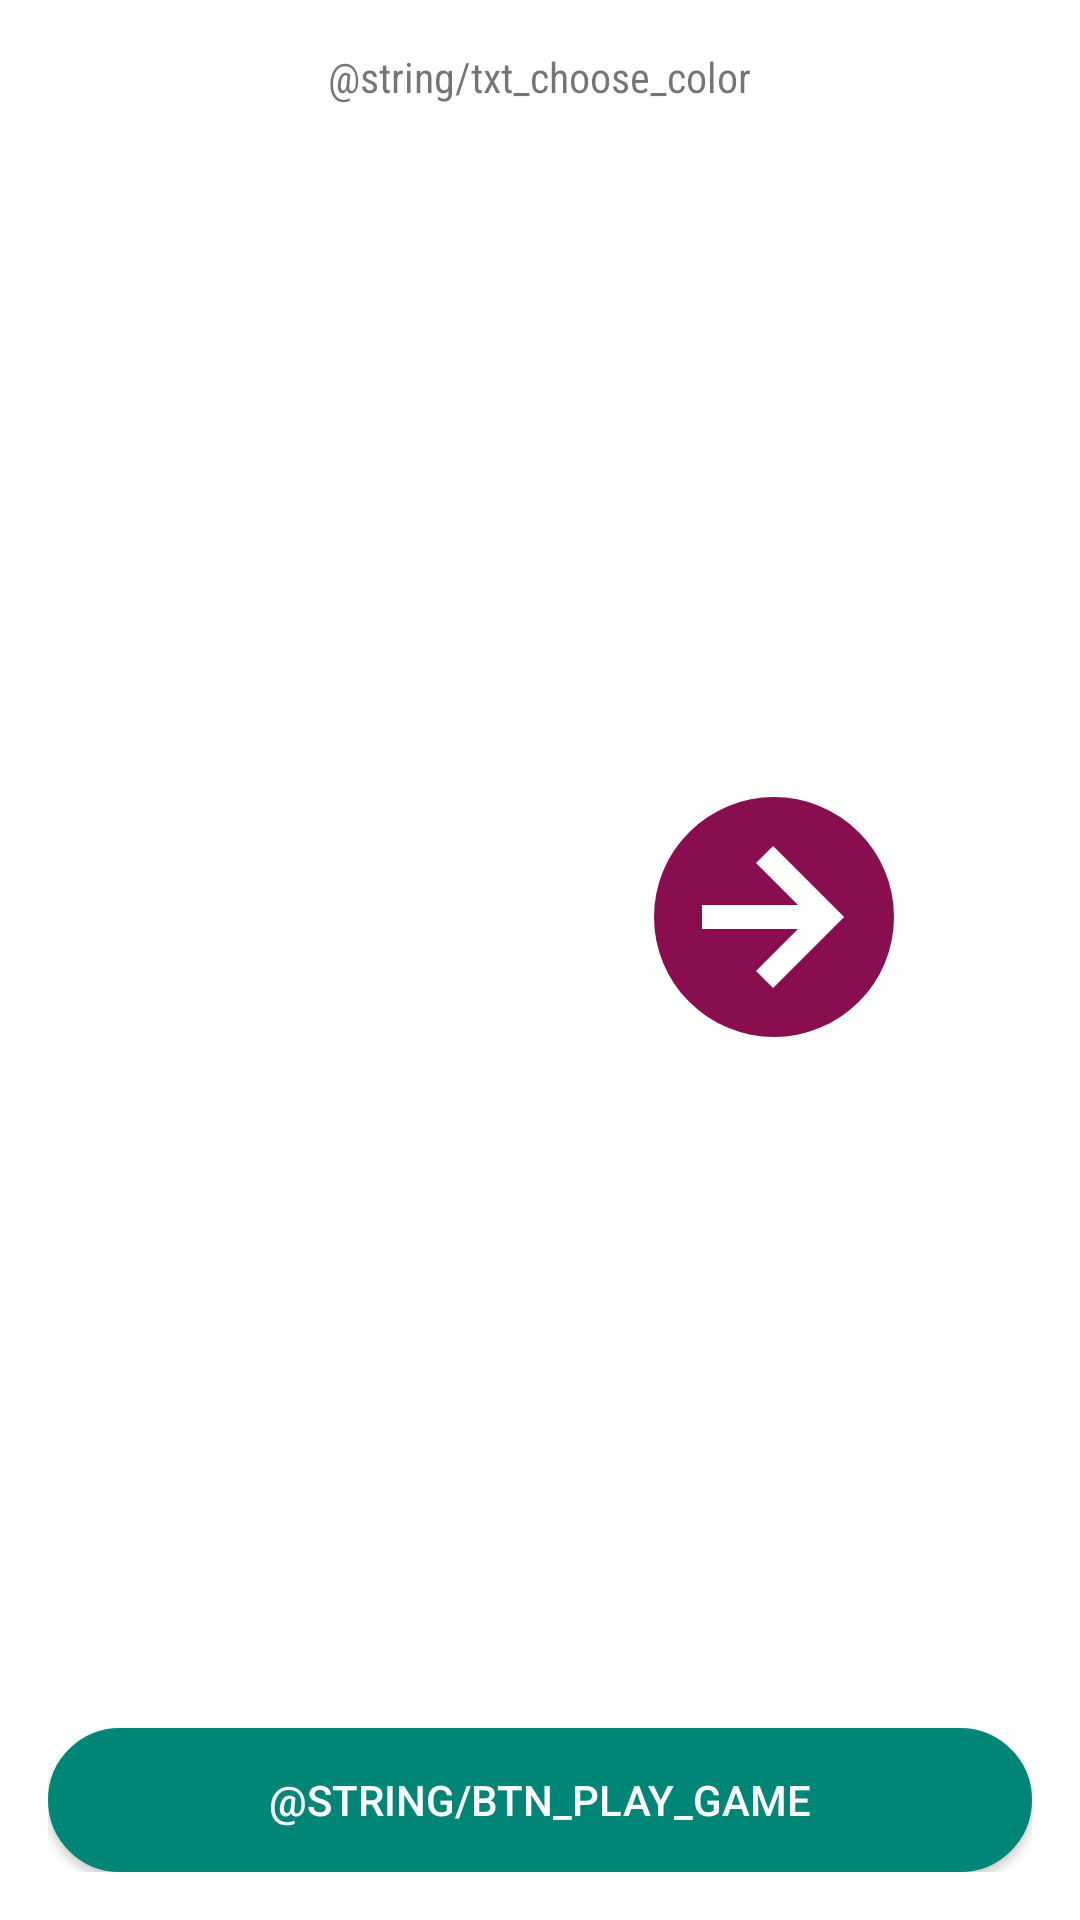

Locate icon controls on the screen. Image size 1080px x 1920px, boxes as (x1, y1, x2, y2).
arrow circle: (654, 797, 894, 1037)
